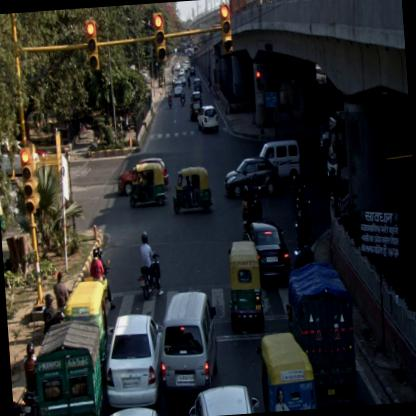car: (102, 310, 168, 410), (156, 290, 220, 392), (240, 216, 291, 288), (223, 154, 281, 198), (183, 384, 259, 415), (258, 140, 302, 184), (196, 103, 219, 133), (188, 102, 204, 124), (189, 90, 204, 107), (172, 79, 184, 97), (193, 78, 202, 92)
motorcycle: (86, 245, 118, 313), (135, 230, 165, 301), (16, 343, 42, 415), (239, 184, 263, 220), (167, 89, 173, 110), (180, 90, 184, 104)
truck: (283, 260, 359, 410), (33, 318, 107, 415)
